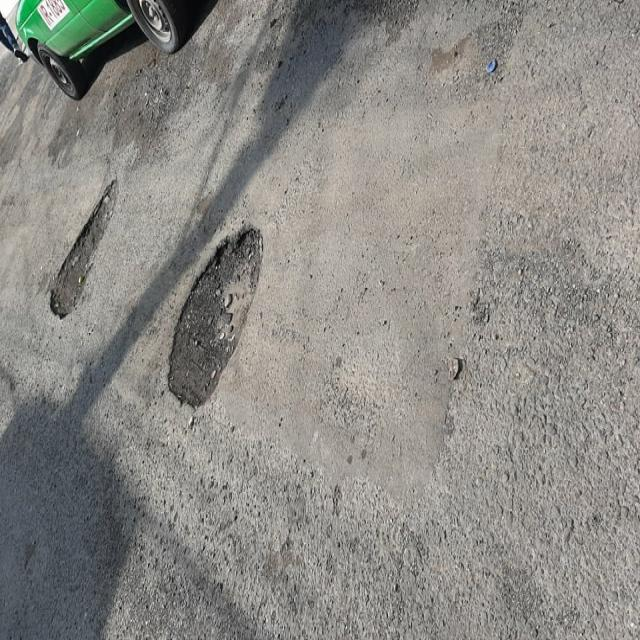Pothole: (144, 213, 296, 429), (22, 150, 141, 362)
